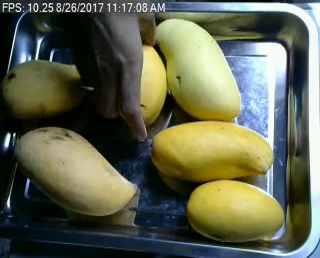Mango: (15, 127, 135, 215), (153, 16, 242, 122), (152, 120, 272, 183), (186, 179, 283, 241), (1, 59, 86, 117), (108, 44, 167, 126)
